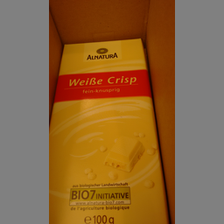chocolate: (49, 40, 168, 224)
